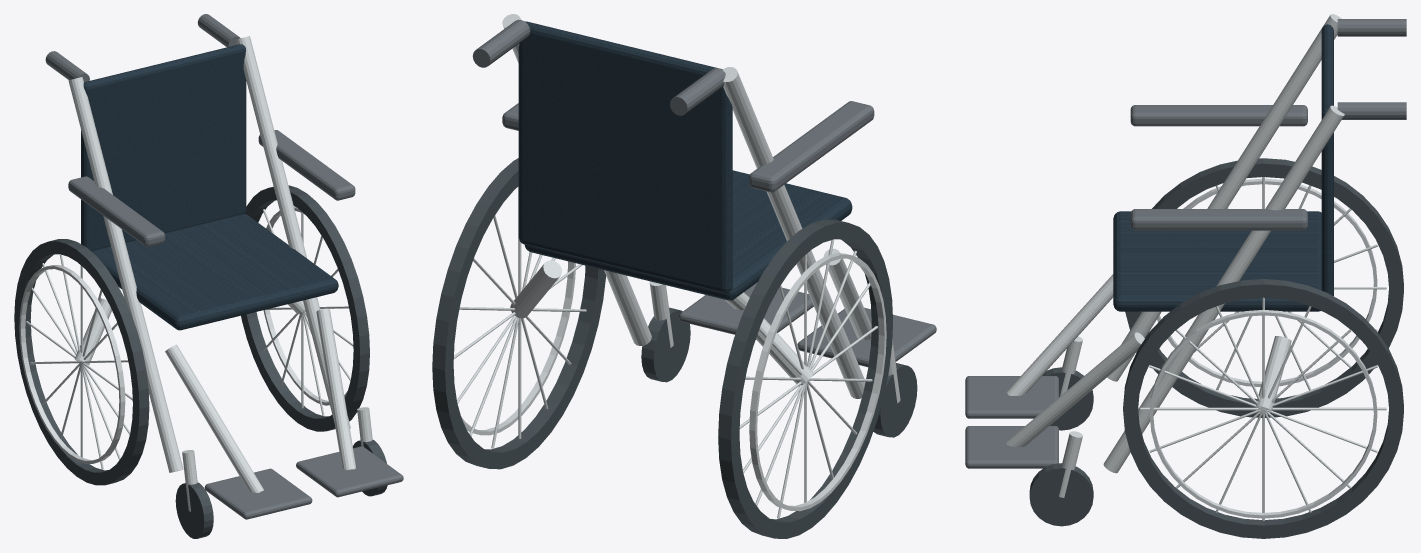
The model's file is wheelchair.glb.
3 views of the same model, side by side, from view 1: azimuth 30°, elevation 25°; view 2: azimuth 150°, elevation 25°; view 3: azimuth 270°, elevation 25° (orthographic). The views are drawn at different scales.
Visible parts, largest first — view 1: Backrest, Seat, Tyre-1, Tyre1, SideFrame-1, SideFrame1, Footplate1, Handrim-1, Footplate-1, FootSupport-1, FootSupport1, Armrest-1 (+8 smaller); view 2: Backrest, Tyre-1, Tyre1, Seat, SideFrame-1, Handrim-1, Armrest-1, Footplate1, FrontCaster1, Footplate-1, FrontCaster-1, SideFrame1 (+7 smaller); view 3: Tyre1, Seat, Tyre-1, SideFrame1, SideFrame-1, Armrest1, Handrim1, Footplate1, Armrest-1, Footplate-1, Backrest, FrontCaster1 (+9 smaller).
Boxes of the visible parts, x1,y1,x2,y2 form: Backrest: [81, 44, 246, 250]; Seat: [91, 214, 338, 330]; Tyre-1: [14, 239, 149, 485]; Tyre1: [241, 185, 369, 431]; SideFrame-1: [68, 77, 183, 472]; SideFrame1: [236, 36, 350, 428]; Footplate1: [296, 446, 403, 497]; Handrim-1: [19, 265, 125, 463]; Footplate-1: [204, 468, 312, 519]; FootSupport-1: [165, 344, 263, 492]; FootSupport1: [316, 308, 355, 470]; Armrest-1: [68, 176, 165, 246]; Backrest: [518, 21, 732, 293]; Tyre-1: [718, 219, 892, 538]; Tyre1: [432, 158, 606, 469]; Seat: [524, 170, 852, 300]; SideFrame-1: [723, 67, 865, 398]; Handrim-1: [749, 253, 886, 511]; Armrest-1: [749, 101, 874, 192]; Footplate1: [679, 282, 813, 339]; FrontCaster1: [641, 307, 690, 382]; Footplate-1: [797, 307, 936, 367]; FrontCaster-1: [873, 363, 917, 437]; SideFrame1: [502, 14, 651, 345]; Tyre1: [1123, 279, 1403, 538]; Seat: [1113, 211, 1321, 311]; Tyre-1: [1125, 158, 1403, 417]; SideFrame1: [1103, 105, 1344, 473]; SideFrame-1: [1107, 14, 1341, 381]; Armrest1: [1130, 209, 1307, 230]; Handrim1: [1149, 309, 1377, 518]; Footplate1: [965, 426, 1058, 468]; Armrest-1: [1130, 105, 1307, 126]; Footplate-1: [965, 376, 1058, 418]; Backrest: [1321, 24, 1333, 295]; FrontCaster1: [1029, 463, 1093, 526].
Size of the model in its own units: 0.642 by 0.9284 by 0.895.
Materials: 4 (1 with a texture image).
